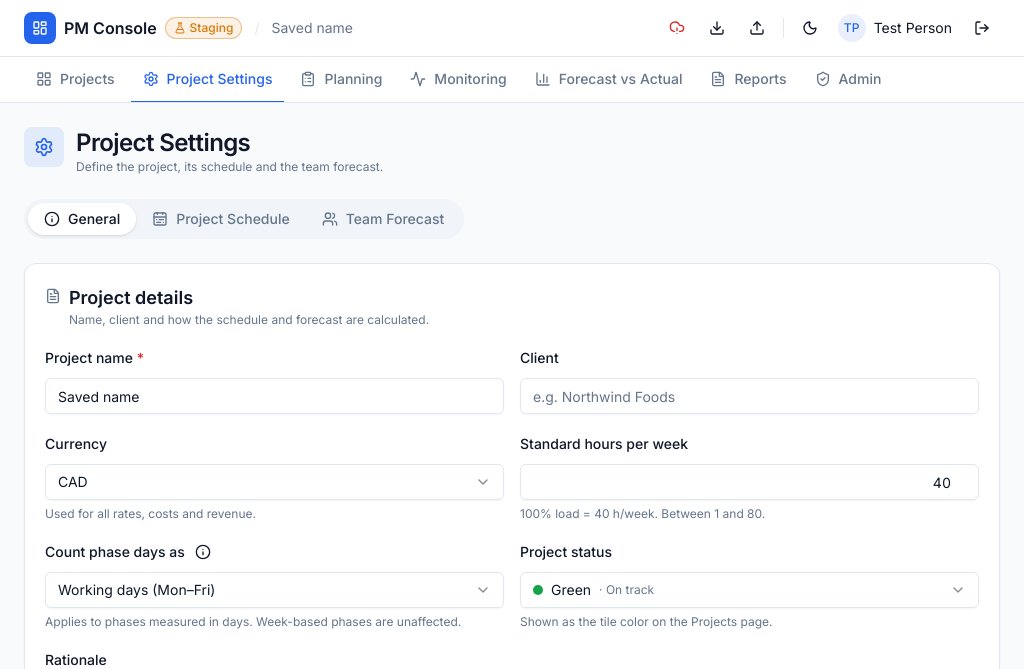
Scenario: Project details form › Reset discards unsaved changes
The width and height of the screenshot is (1024, 669).
Replace the text in the field labelled "Project name *" with "Draft" at {"x": 274, "y": 396}, box top-left (45, 378), bottom-right (504, 414)
(page scrolled)
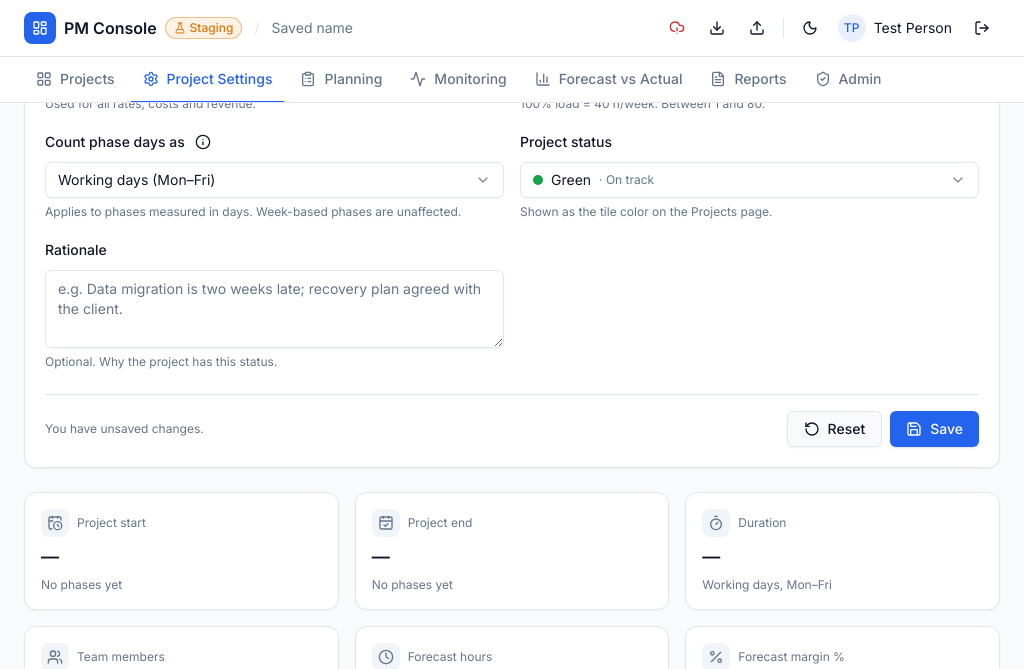
Expected: the text "You have unsaved changes." is shown, top-left (45, 421), bottom-right (204, 437)
Click the button "Reset".
click(834, 429)  # box top-left (787, 411), bottom-right (882, 447)
(page scrolled)
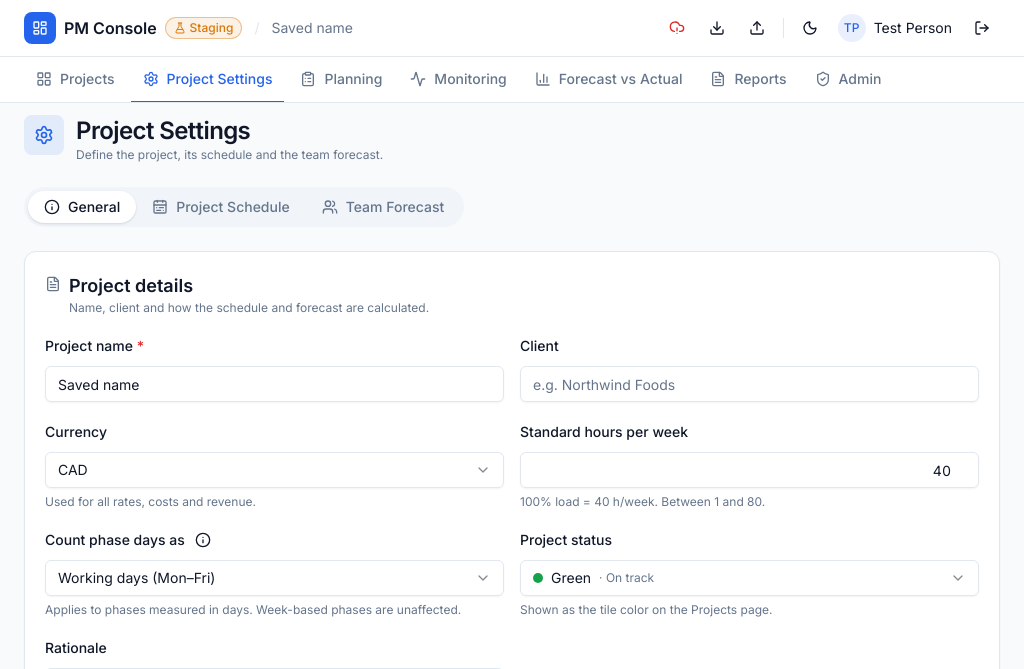
Expected: the field labelled "Project name *" holds "Saved name", top-left (45, 366), bottom-right (504, 402)
Expected: the text "You have unsaved changes." is gone
